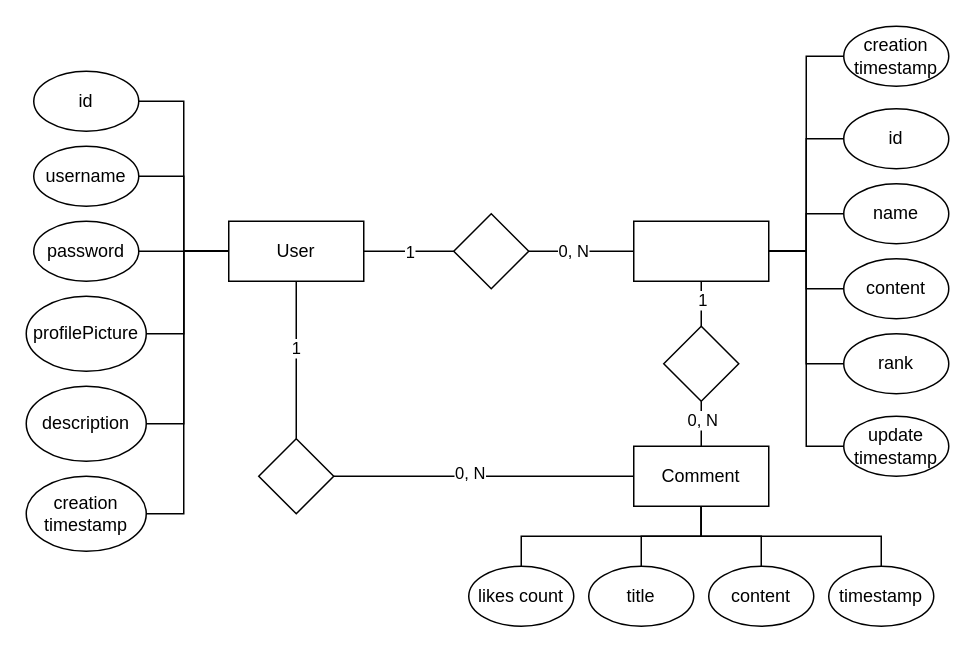
Image size: 975x653. Some labels were removed from this diagram. The shapes that lost their labels are listed below. From the top down, each one's box as (x1, y1, x2, y2) in pixels, then its label:
(452, 212, 529, 289): owns
(632, 220, 769, 281): Topic
(662, 325, 739, 401): haves
(257, 437, 334, 514): posts
